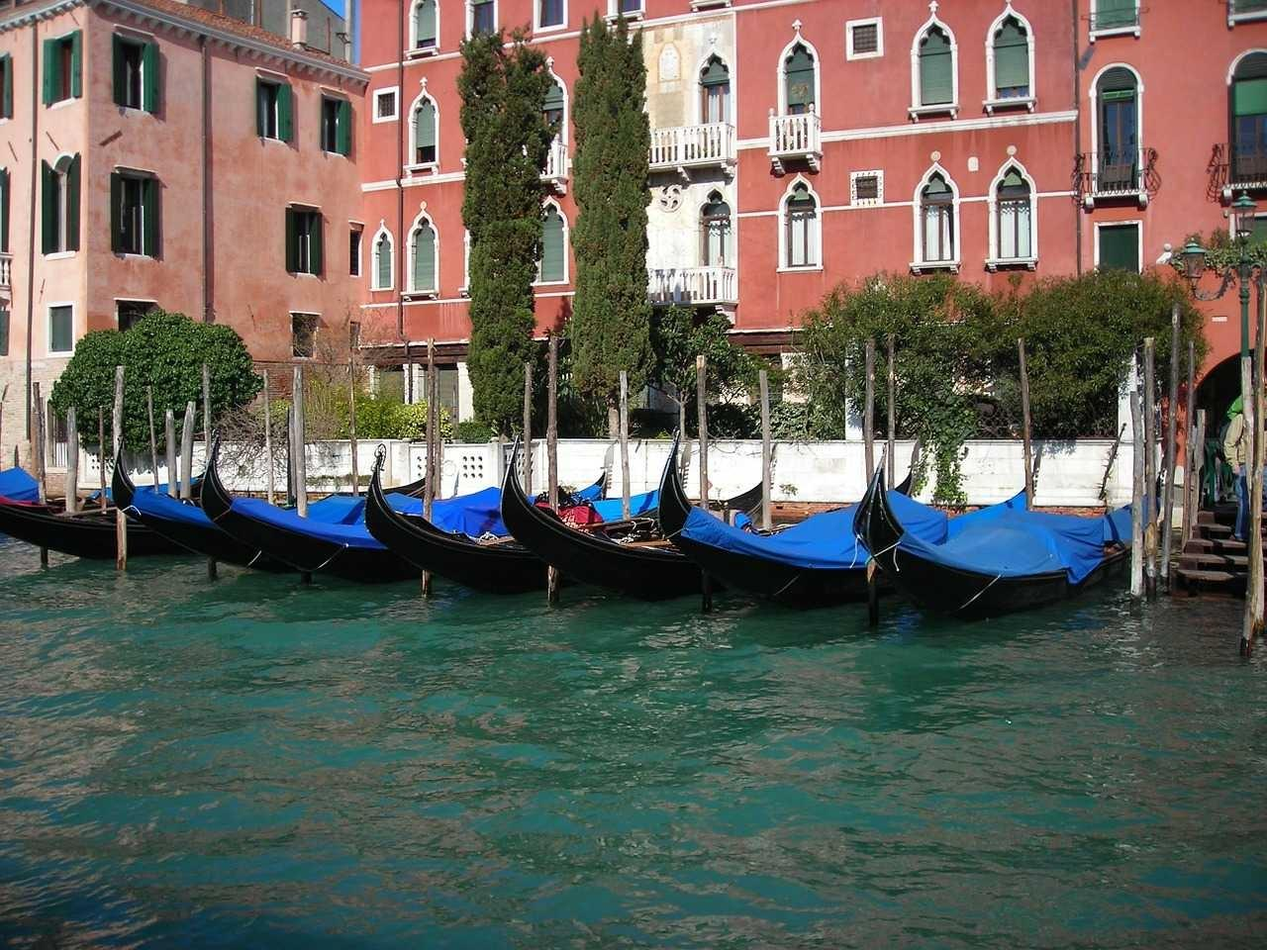kayak: (658, 380, 879, 612), (856, 453, 1138, 621), (502, 418, 704, 603), (198, 429, 417, 584), (363, 444, 551, 597), (0, 492, 182, 564), (129, 483, 267, 575)
